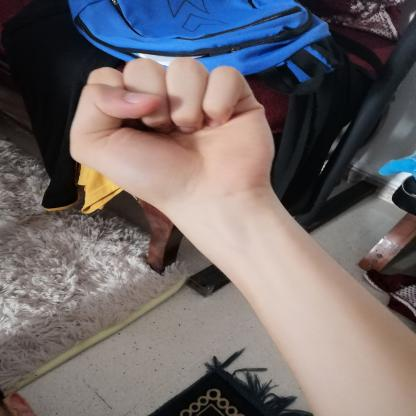SAD: (54, 51, 288, 214)
